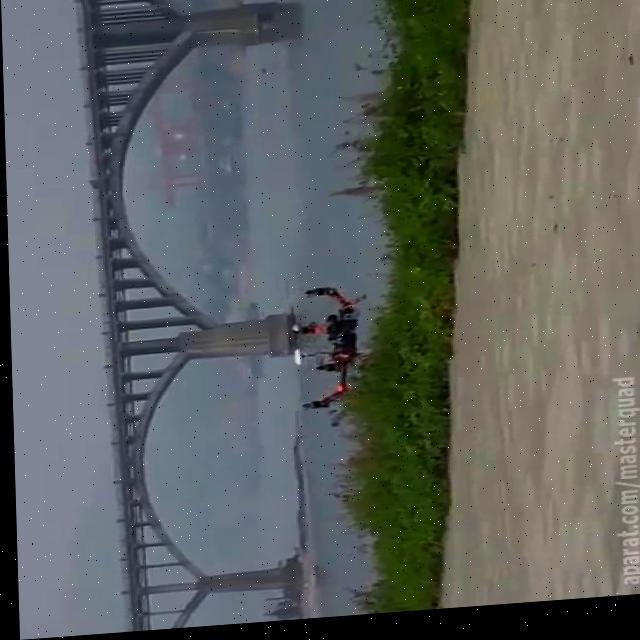drone: (280, 282, 365, 422)
